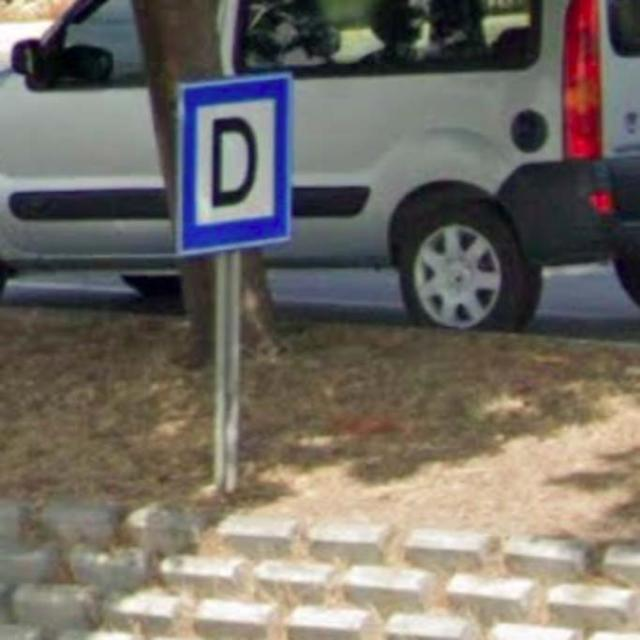durak: (174, 74, 295, 255)
